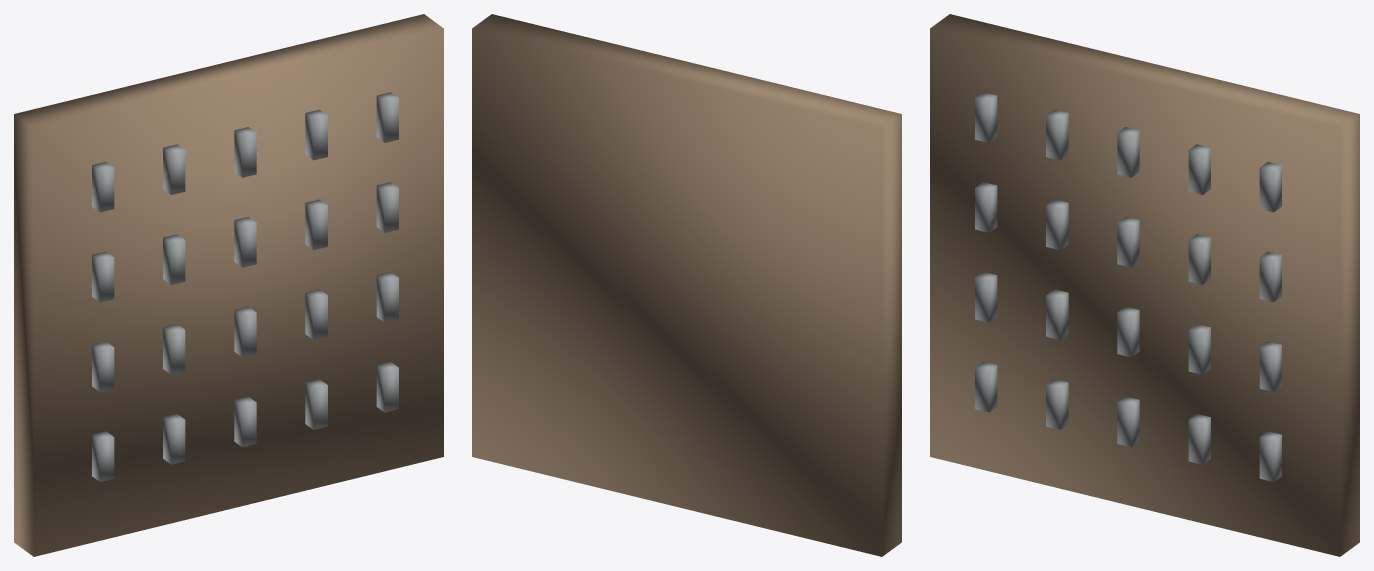
Rendered from key_cubby_rack__tall.glb.
The picture shows the model from 3 angles, left to right: view 1: azimuth 30°, elevation 25°; view 2: azimuth 150°, elevation 25°; view 3: azimuth 330°, elevation 25°; orthographic projection.
Parts seen in each view (by area): view 1: world; view 2: world; view 3: world.
Boxes of the visible parts, x1,y1,x2,y2 form: world: (14,14,443,556); world: (472,14,901,556); world: (930,14,1359,556).
Size of the model in its own units: 0.72 by 0.7192 by 0.0925.
